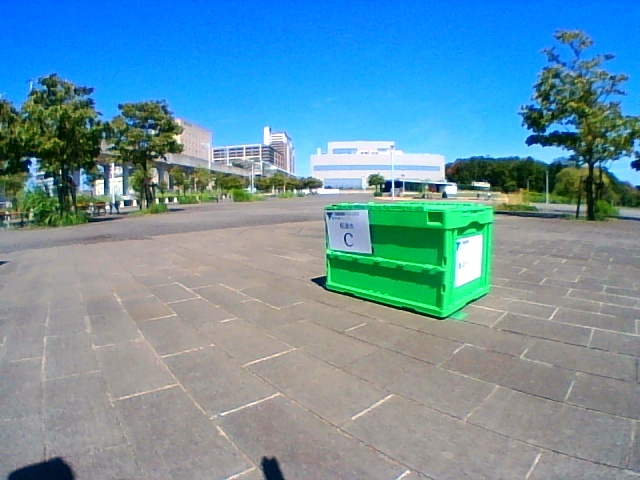green_box: (324, 202, 493, 318), (329, 211, 367, 251)
